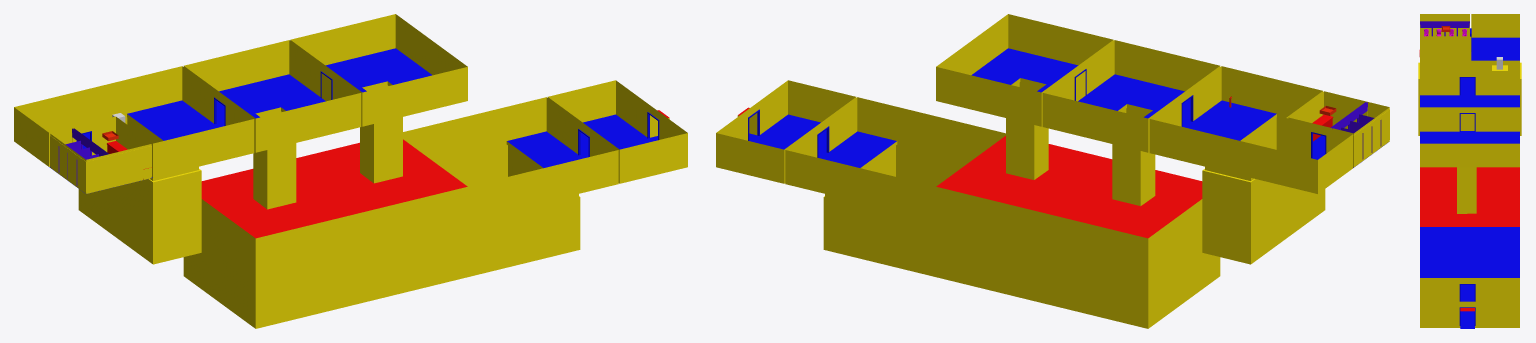
File: stage_01_04_texture.FBX
3 renders of one model, left to right at view 1: azimuth 30°, elevation 25°; view 2: azimuth 150°, elevation 25°; view 3: azimuth 270°, elevation 25°, orthographic. The views are drawn at different scales.
Visible parts, largest first — view 1: Object008, Object006, Object002, Object011, Object001, Object010, Object009, Object014, Object015, Object013, Object022, Object017 (+1 smaller); view 2: Object008, Object006, Object002, Object011, Object001, Object010, Object009, Object014, Object015, Object013, Object022, Object017 (+1 smaller); view 3: Object006, Object016, Object010, Object011, Object001, Object002, Object014, Object015, Object012, Box044, Object009, Object022 (+5 smaller).
Boxes of the visible parts, box(x1,y1,x2,y2) form: Object008: box(183, 107, 578, 328); Object006: box(290, 14, 467, 212); Object002: box(78, 66, 254, 264); Object011: box(183, 40, 361, 238); Object001: box(14, 91, 152, 193); Object010: box(547, 80, 687, 183); Object009: box(506, 97, 618, 249); Object014: box(216, 74, 325, 126); Object015: box(325, 48, 432, 92); Object013: box(127, 100, 218, 140); Object022: box(579, 114, 657, 158); Object017: box(507, 131, 582, 167); Object008: box(825, 107, 1220, 328); Object006: box(936, 14, 1113, 212); Object002: box(1149, 66, 1325, 264); Object011: box(1042, 40, 1220, 238); Object001: box(1251, 91, 1389, 193); Object010: box(716, 80, 856, 183); Object009: box(785, 97, 897, 249); Object014: box(1078, 74, 1190, 126); Object015: box(971, 48, 1078, 92); Object013: box(1185, 100, 1276, 140); Object022: box(749, 114, 827, 158); Object017: box(821, 131, 896, 167); Object006: box(1420, 107, 1519, 226); Object016: box(1420, 227, 1519, 288); Object010: box(1420, 278, 1519, 325); Object011: box(1420, 71, 1519, 190); Object001: box(1419, 14, 1519, 60); Object002: box(1418, 60, 1521, 135); Object014: box(1420, 95, 1519, 107); Object015: box(1420, 131, 1519, 143); Object012: box(1471, 37, 1519, 60); Box044: box(1459, 28, 1475, 325); Object009: box(1420, 278, 1519, 327); Object022: box(1460, 311, 1474, 328).
Bounding box in the file's own units: 74.87 × 24.71 × 15.74.
